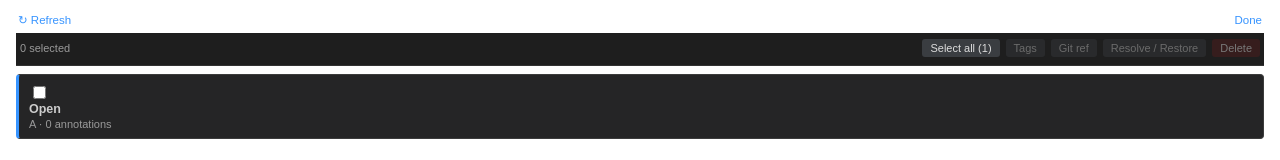
Test: App.svelte › select all targets only the visible (filtered) groups
The image size is (1280, 160).
Click the button with test id "bulk-select-all".
click(961, 48)  # box [922, 39, 1000, 57]
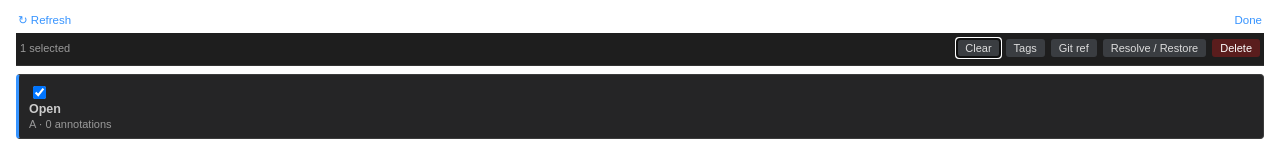
Expected: the text with test id "bulk-count" reads "1 selected", [20, 42, 70, 54]
